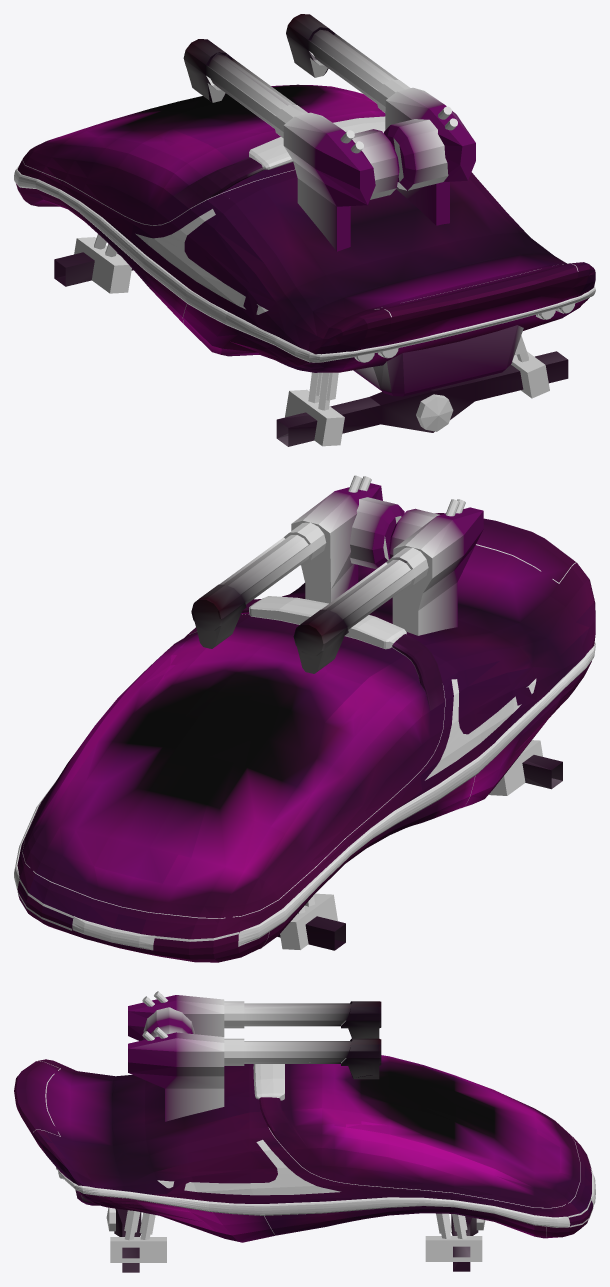
File: auto5.fbx
3 views of the same model, one above another, from view 1: azimuth 30°, elevation 25°; view 2: azimuth 150°, elevation 25°; view 3: azimuth 270°, elevation 25° (orthographic). The views are drawn at different scales.
Parts seen in each view (by area): view 1: Mesh10; view 2: Mesh10; view 3: Mesh10.
Boxes of the visible parts, bbox=[...] form: Mesh10: bbox=[14, 14, 595, 446]; Mesh10: bbox=[14, 475, 595, 962]; Mesh10: bbox=[14, 991, 595, 1272].
Size of the model in its own units: 8.81 by 8.34 by 19.83.
